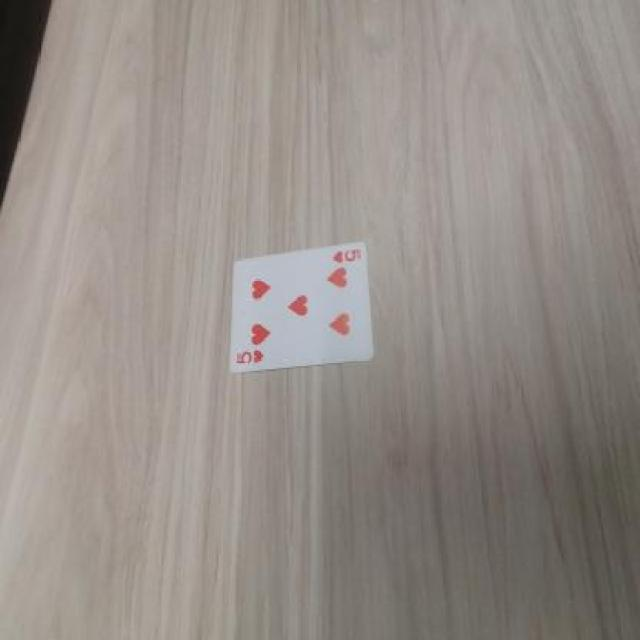5H: (327, 241, 365, 267), (234, 344, 266, 368)
